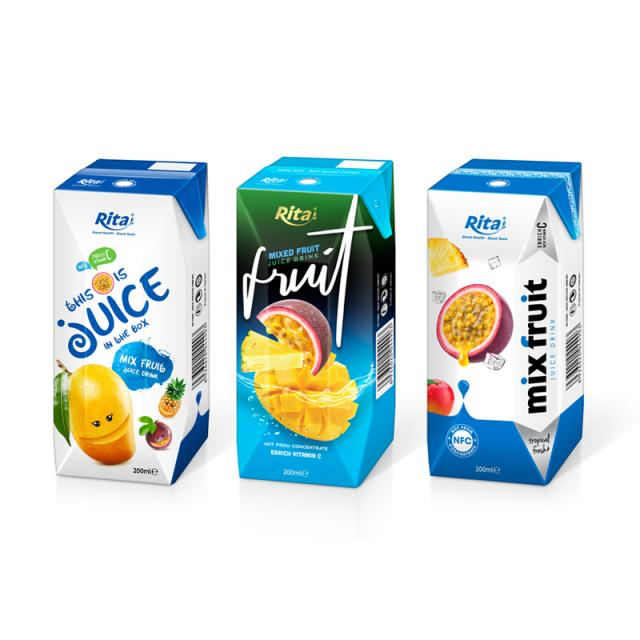non_white_jug: (230, 135, 412, 503), (39, 136, 210, 502), (424, 142, 597, 496)
